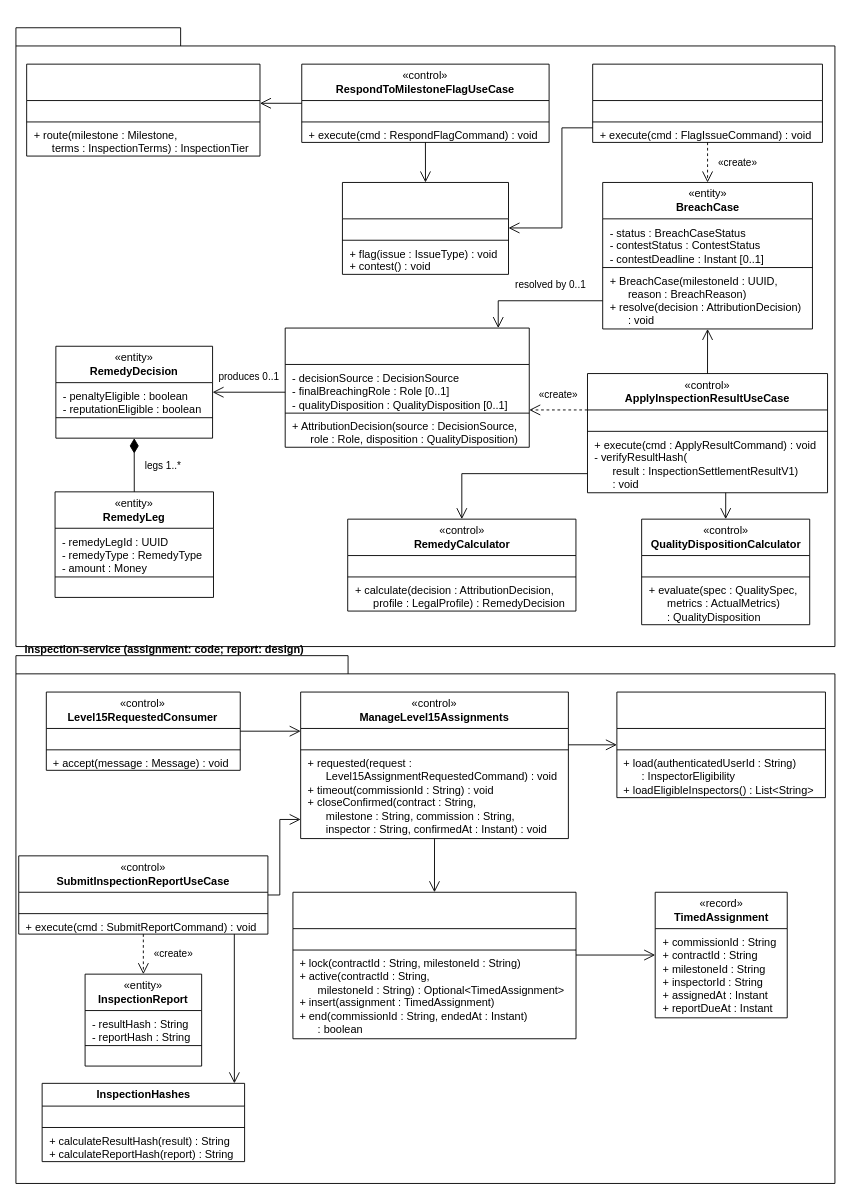
This 851x1199 diagram has some shape labels left out. The shapes that lost their labels are listed below. From the top down, each one's box as (x1, y1, x2, y2) in pixels, then its label:
(26, 63, 260, 156): «control» DisputeRoutingService
(592, 63, 822, 142): «control» FlagMilestoneIssueUseCase
(342, 182, 509, 274): «entity» Milestone
(15, 27, 835, 647): contract-service (design)
(284, 327, 529, 447): «entity» AttributionDecision
(616, 691, 825, 798): «interface» InspectorEligibilityPort
(292, 891, 576, 1039): «interface» AssignmentLifecycleRepository
